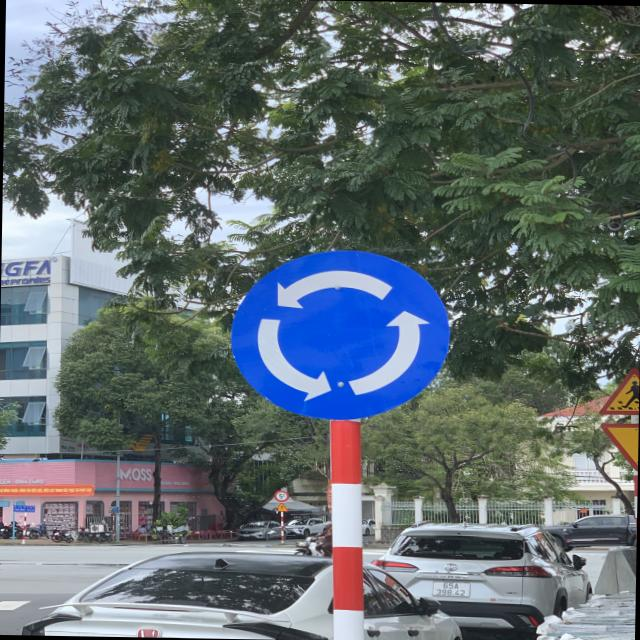Xe_Bus: (225, 248, 456, 423)
